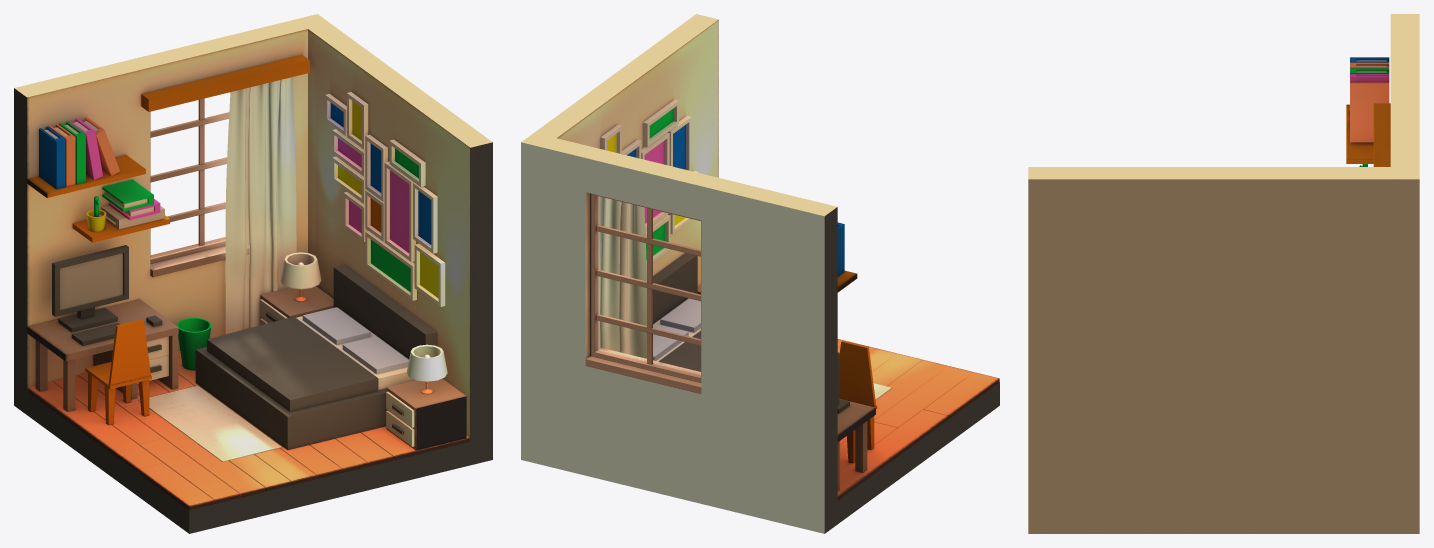
The model's file is home__room.glb.
3 renders of one model, left to right at view 1: azimuth 30°, elevation 25°; view 2: azimuth 150°, elevation 25°; view 3: azimuth 270°, elevation 25°, orthographic. The views are drawn at different scales.
Parts seen in each view (by area): view 1: Home; view 2: Home; view 3: Home.
Boxes of the visible parts, box(x1,y1,x2,y2) form: Home: box(14, 14, 492, 533); Home: box(521, 14, 999, 533); Home: box(1028, 14, 1419, 533).
Bounding box in the file's own units: 235 × 235 × 235.
1 material, 1 textured.
